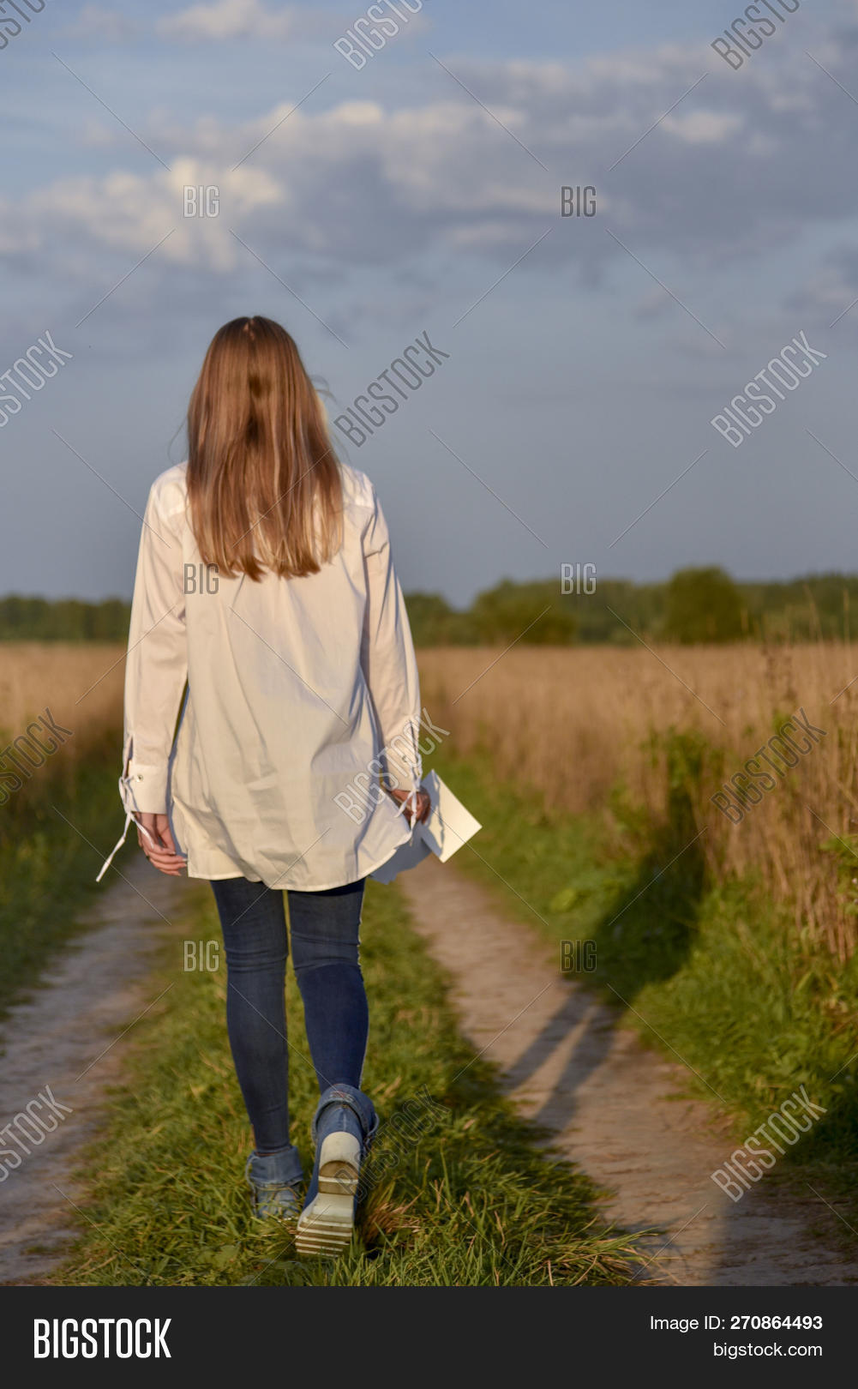Person: (110, 304, 469, 1262)
